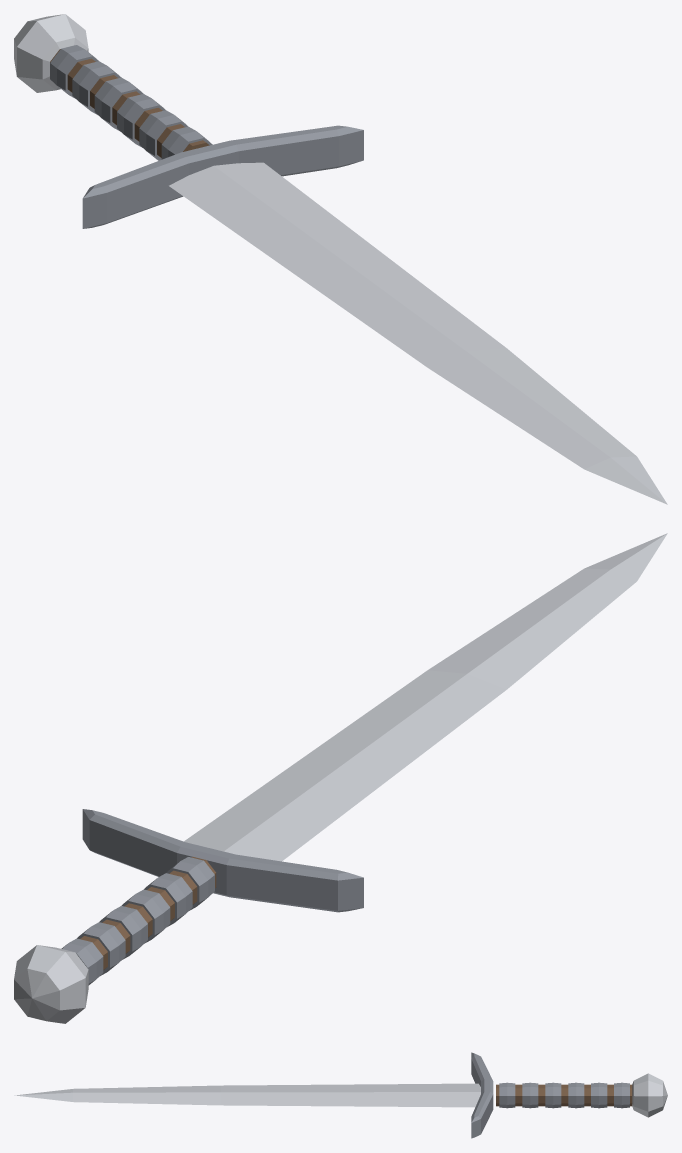
The model's file is longsword.glb.
The picture shows the model from 3 angles, top to bottom: view 1: azimuth 30°, elevation 25°; view 2: azimuth 150°, elevation 25°; view 3: azimuth 270°, elevation 25°; orthographic projection. The views are drawn at different scales.
Visible parts, largest first — view 1: longsword; view 2: longsword; view 3: longsword.
Part boxes in pixels (x1,y1,x2,y2): longsword: (14, 14, 667, 504); longsword: (14, 533, 667, 1023); longsword: (14, 1052, 667, 1138).
Bounding box in the file's own units: 0.34 × 0.0831 × 1.33.
